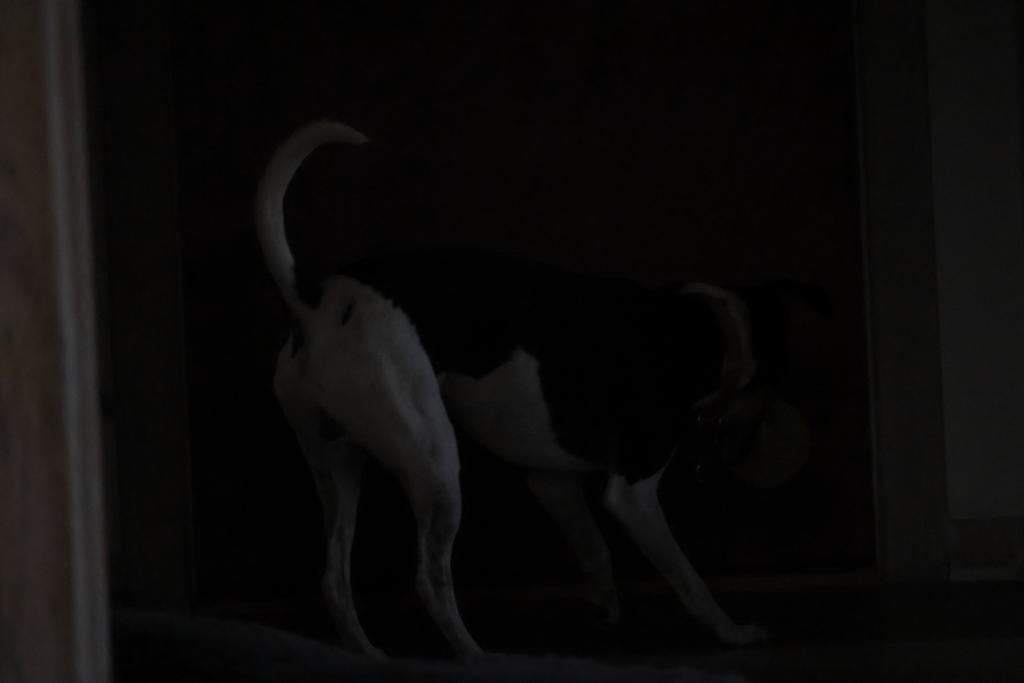Dog: (219, 86, 864, 683)
